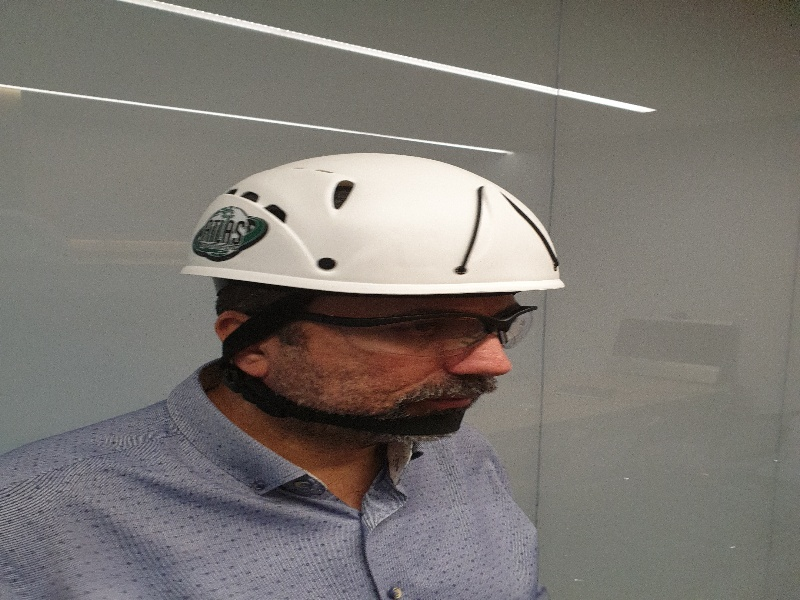Baret: (185, 153, 569, 296)
Gozluk: (263, 304, 541, 347)
